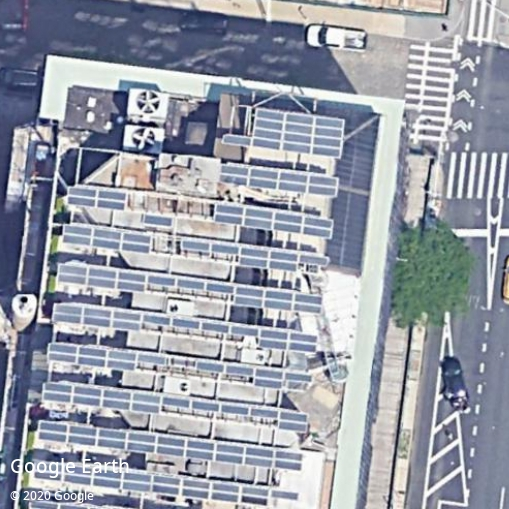Vent: (136, 90, 160, 114), (131, 128, 156, 151)
